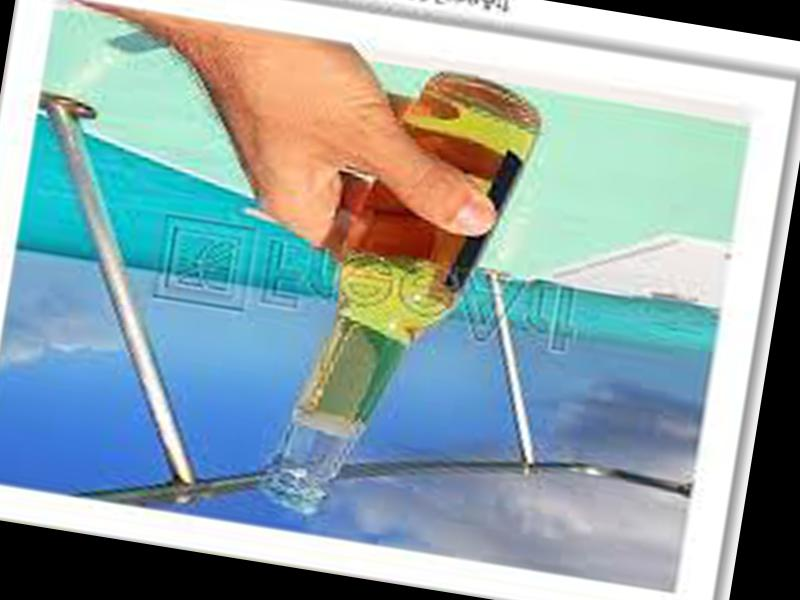Beer: (246, 57, 549, 537)
